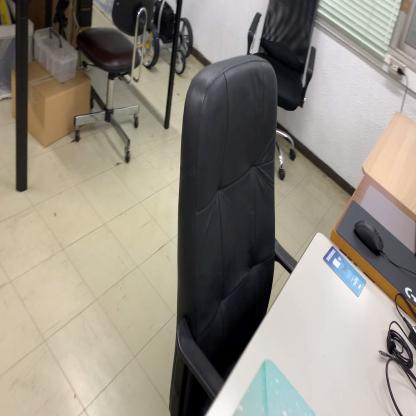chair: (169, 53, 300, 416), (245, 0, 322, 184), (72, 0, 154, 167)
